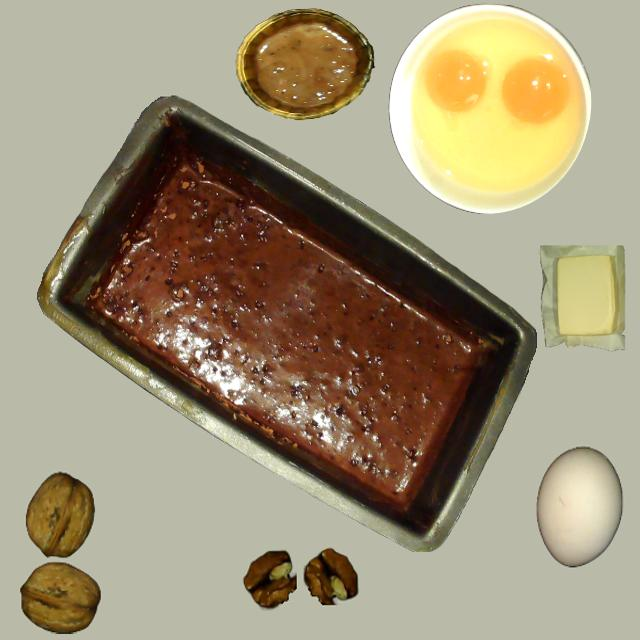Egg: (417, 20, 573, 191), (502, 57, 570, 125), (426, 49, 489, 113)
Walnut: (25, 473, 94, 558), (20, 562, 101, 632)
